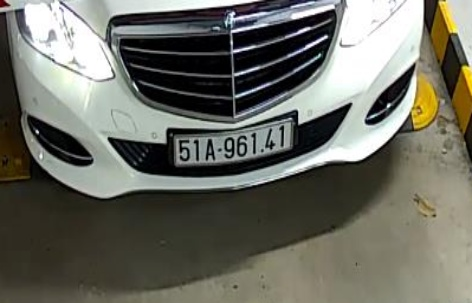plate: (161, 119, 307, 171)
